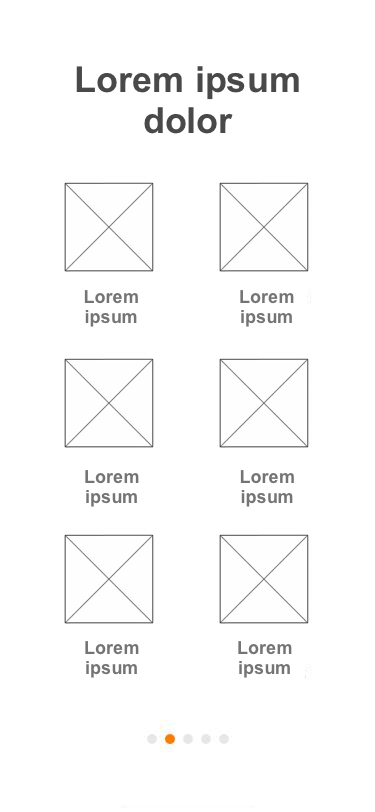Image: (64, 358, 155, 449), (219, 358, 310, 449), (219, 534, 310, 625), (64, 183, 155, 273), (219, 183, 310, 273), (65, 534, 155, 624)
PageIndicator: (146, 733, 231, 744)
Text: (76, 66, 300, 136), (84, 469, 140, 508), (240, 469, 295, 508), (238, 640, 293, 679), (84, 290, 140, 328), (239, 290, 294, 328), (85, 641, 140, 679)
